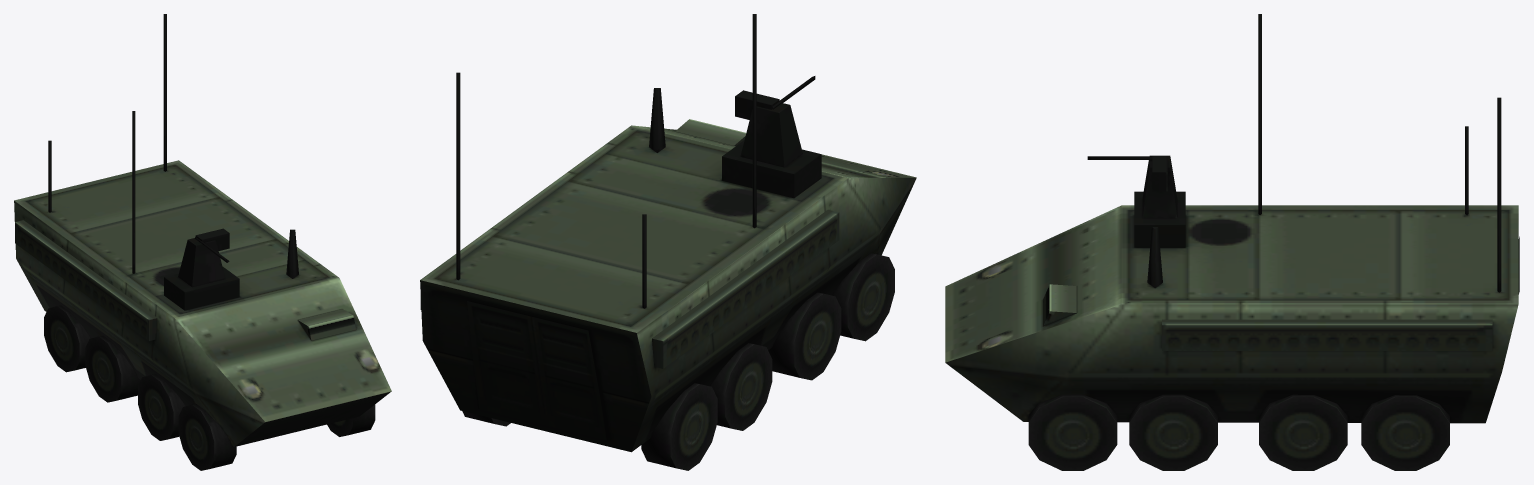
The model's file is Stryker_NBCRV.DAE.
3 renders of one model, left to right at view 1: azimuth 30°, elevation 25°; view 2: azimuth 150°, elevation 25°; view 3: azimuth 270°, elevation 25°, orthographic. The views are drawn at different scales.
Parts seen in each view (by area): view 1: _1184_Stryker_NBCRV; view 2: _1184_Stryker_NBCRV; view 3: _1184_Stryker_NBCRV.
Boxes of the visible parts, x1=… form: _1184_Stryker_NBCRV: x1=14, y1=14, x2=391, y2=470; _1184_Stryker_NBCRV: x1=420, y1=14, x2=916, y2=470; _1184_Stryker_NBCRV: x1=945, y1=14, x2=1519, y2=470.
Bounding box in the file's own units: 112 × 173 × 246.
1 material, 1 textured.
